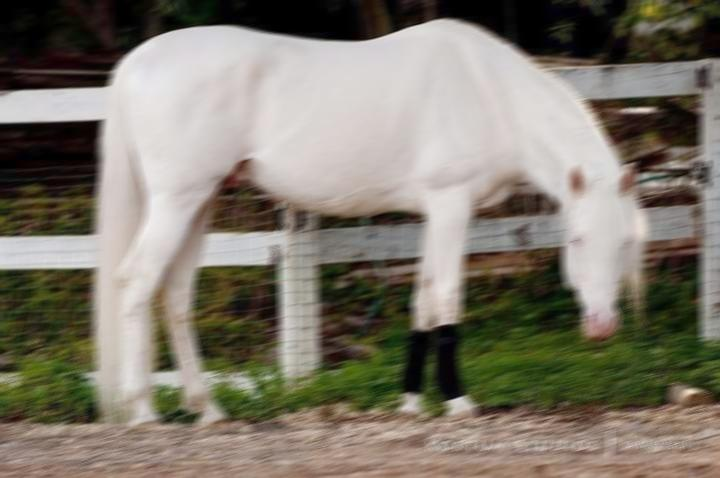horse: (86, 16, 650, 429)
